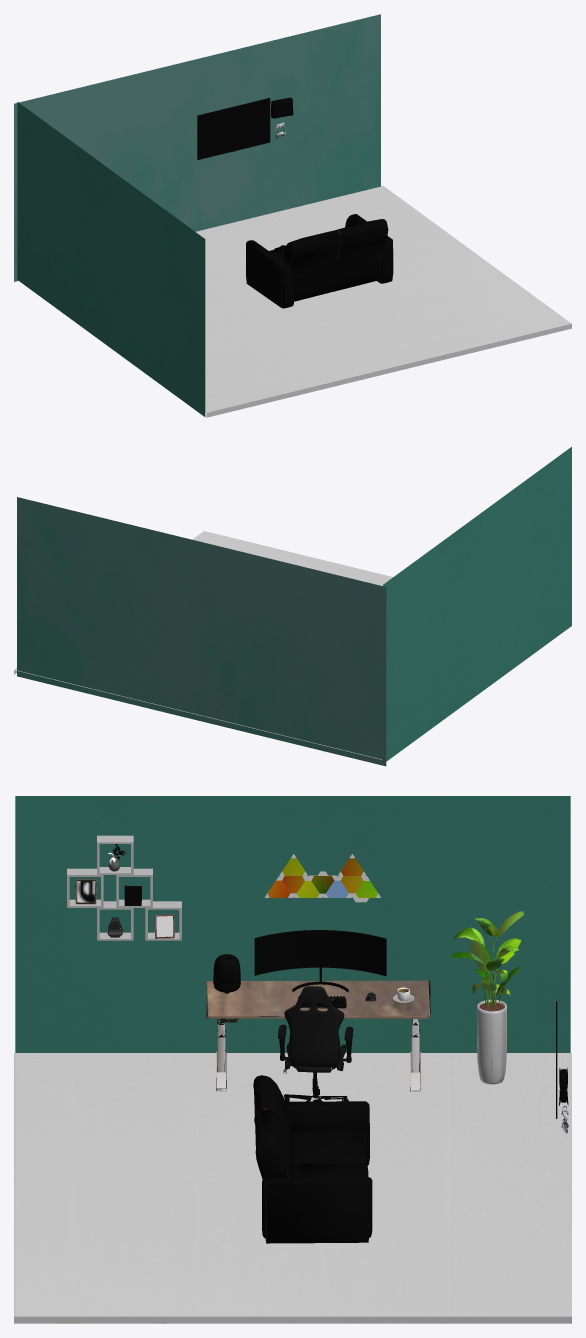
File: offce14.gltf
The picture shows the model from 3 angles, top to bottom: view 1: azimuth 30°, elevation 25°; view 2: azimuth 150°, elevation 25°; view 3: azimuth 270°, elevation 25°; orthographic projection. The views are drawn at different scales.
Parts seen in each view (by area): view 1: Wall2, Floor, Wall1, Black Leather Couch, TVScreen; view 2: Wall2, Wall1, Floor; view 3: Floor, Wall1, Black Leather Couch, (CS) Ascend - Sit-stand, Workstation, Black, Screen, Chair_BackRest, White shelf, plant.001, pot.001, Object_3.002, Nano leaf light_violet_0, Gaming PC with Curved Monitor.
Boxes of the visible parts, x1,y1,x2,y2 form: Wall2: [14, 14, 380, 281]; Floor: [195, 185, 571, 417]; Wall1: [17, 102, 205, 416]; Black Leather Couch: [246, 214, 393, 308]; TVScreen: [198, 99, 269, 158]; Wall2: [17, 497, 386, 766]; Wall1: [383, 447, 571, 761]; Floor: [14, 531, 392, 759]; Floor: [14, 1053, 571, 1323]; Wall1: [15, 796, 570, 1052]; Black Leather Couch: [253, 1075, 372, 1243]; (CS) Ascend - Sit-stand, Workstation, Black: [206, 980, 430, 1091]; Screen: [256, 931, 385, 975]; Chair_BackRest: [284, 986, 344, 1067]; White shelf: [67, 835, 181, 940]; plant.001: [451, 911, 523, 1008]; pot.001: [477, 999, 506, 1084]; Object_3.002: [213, 954, 240, 992]; Nano leaf light_violet_0: [340, 858, 377, 897]; Gaming PC with Curved Monitor: [254, 930, 386, 991].
Bounding box in the file's own units: 40.79 × 18.94 × 36.1.
